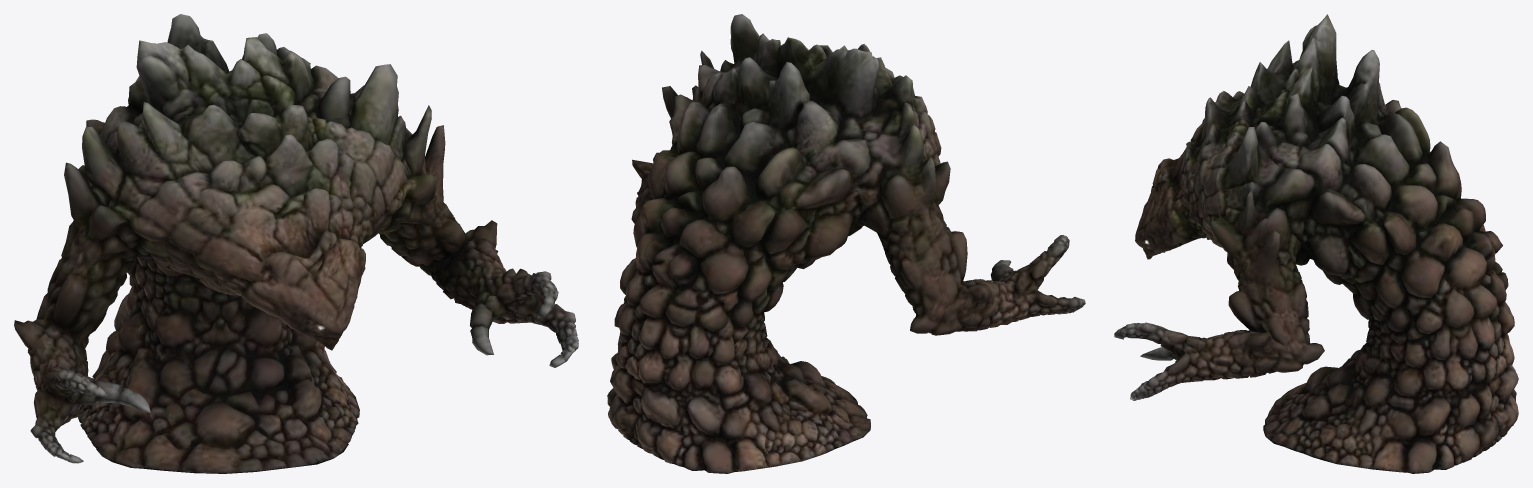
File: MZ4250 - Earth Elemental_2025.glb
The picture shows the model from 3 angles, left to right: view 1: azimuth 30°, elevation 25°; view 2: azimuth 150°, elevation 25°; view 3: azimuth 270°, elevation 25°; orthographic projection. The views are drawn at different scales.
Parts seen in each view (by area): view 1: ORGANIC BASE SPHERE.001; view 2: ORGANIC BASE SPHERE.001; view 3: ORGANIC BASE SPHERE.001.
Part boxes in pixels (x1=…): ORGANIC BASE SPHERE.001: x1=14, y1=14, x2=578, y2=473; ORGANIC BASE SPHERE.001: x1=607, y1=14, x2=1085, y2=473; ORGANIC BASE SPHERE.001: x1=1114, y1=14, x2=1518, y2=473.
Size of the model in its own units: 168 by 137 by 139.
1 material, 1 textured.
